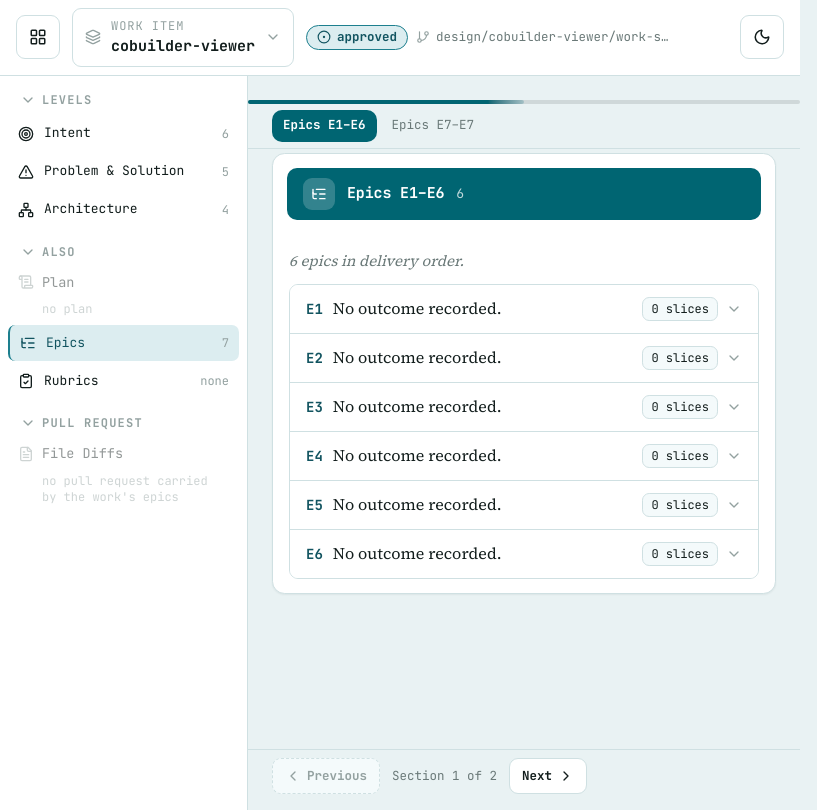
it: Slice 8 · one index drives the strip, the pager, and the arrow keys › moves one index on Next, and the strip, the pager, and the box agree
Click the button "Next" at (548, 776), box [509,758,587,794]
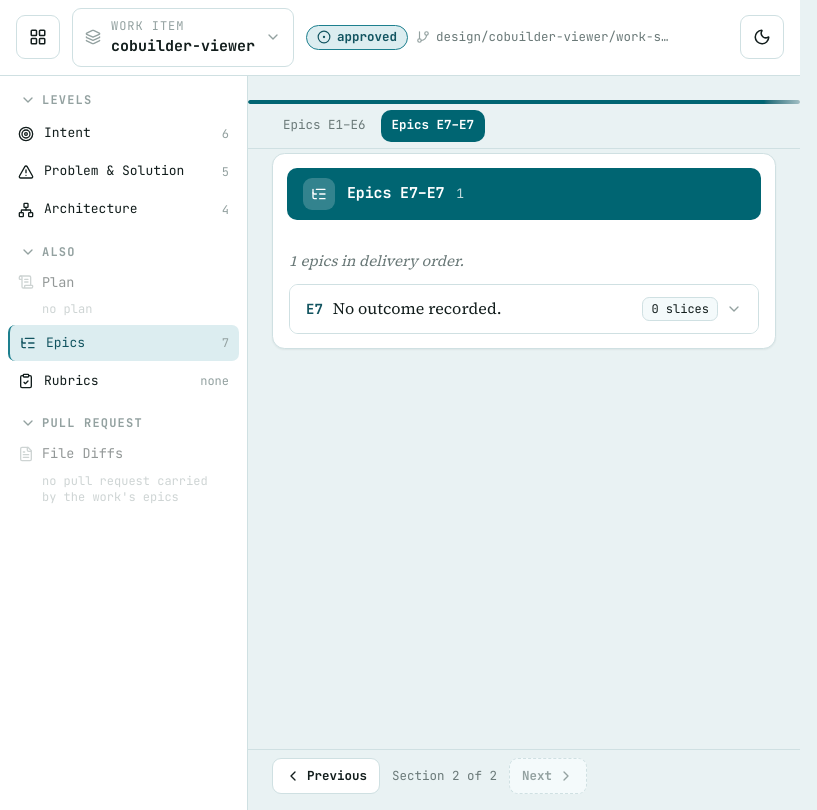
Now the text "Section 2 of 2" is shown, box [392,767,497,785]
